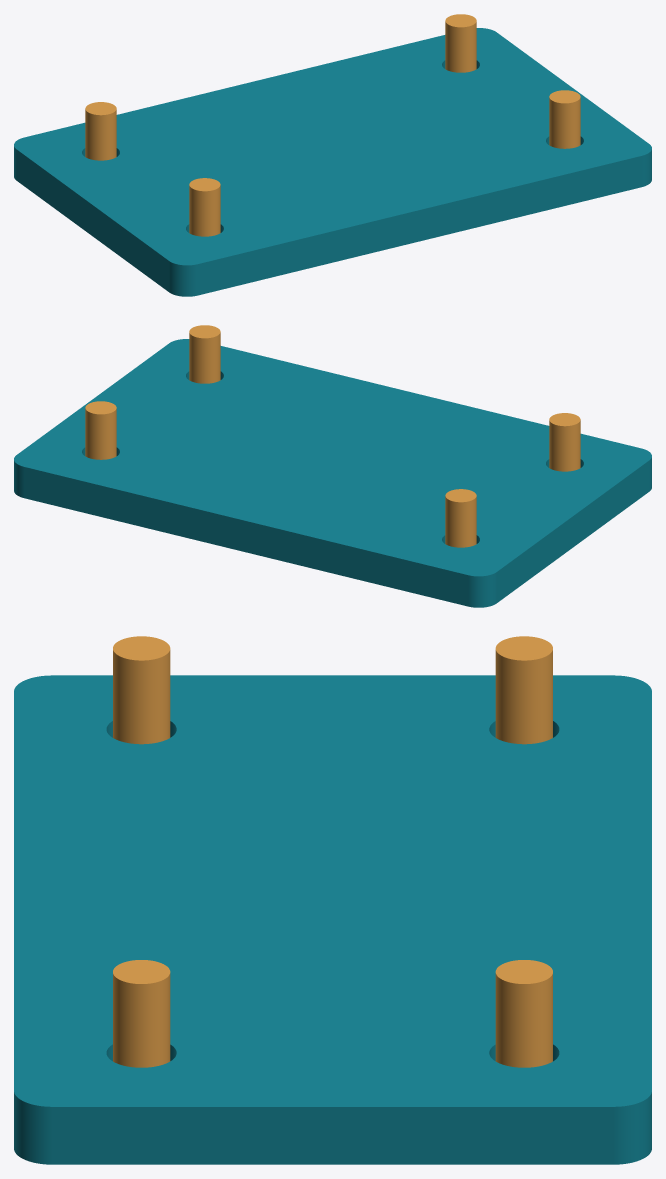
File: plate_assembly.glb
3 views of the same model, one above another, from view 1: azimuth 30°, elevation 25°; view 2: azimuth 150°, elevation 25°; view 3: azimuth 270°, elevation 25° (orthographic). The views are drawn at different scales.
Visible parts, largest first — view 1: plate_assembly (×2); view 2: plate_assembly (×2); view 3: plate_assembly (×2).
Part boxes in pixels (<box>): plate_assembly (×2): <box>14,14,651,296</box>; plate_assembly (×2): <box>14,325,651,607</box>; plate_assembly (×2): <box>14,636,651,1164</box>.
Size of the model in its own units: 0.08 by 0.012 by 0.05.
